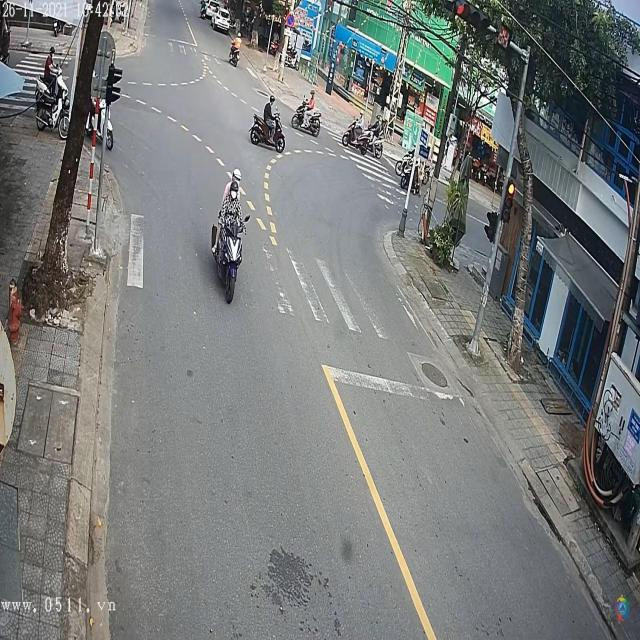motorcycle: (209, 188, 241, 304), (34, 86, 68, 140), (343, 117, 368, 159), (251, 122, 286, 151), (293, 111, 322, 136)
